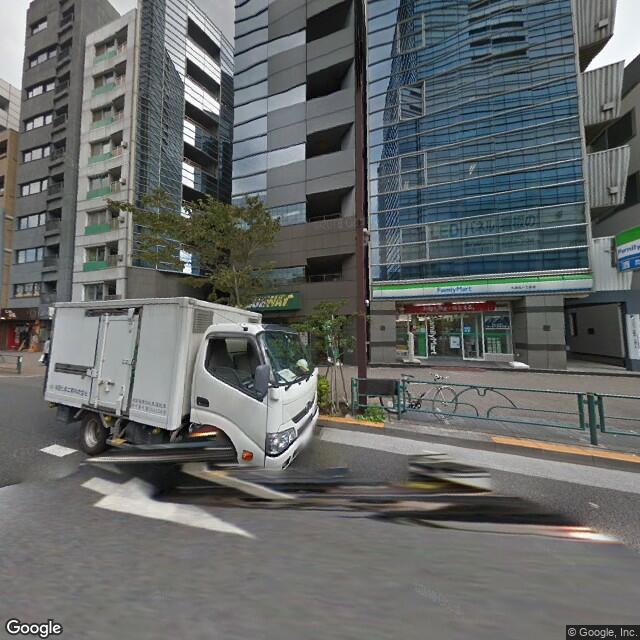family_mart: (372, 269, 594, 303), (611, 224, 640, 264)
